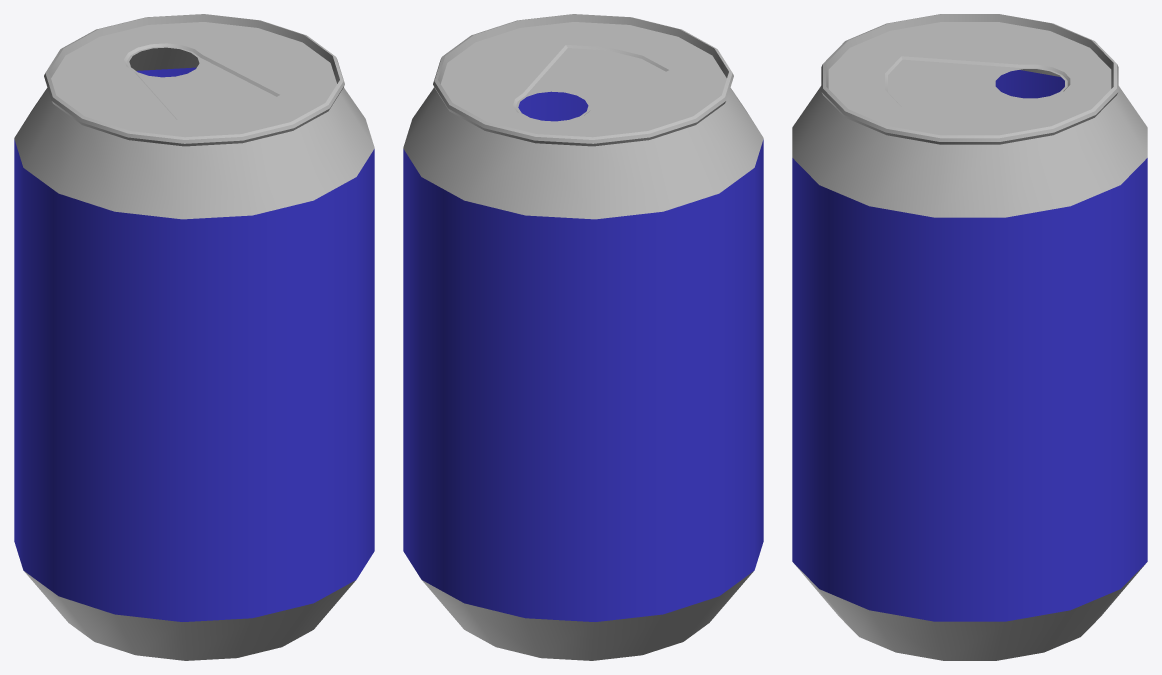
File: Props_Soda2.fbx
3 renders of one model, left to right at view 1: azimuth 30°, elevation 25°; view 2: azimuth 150°, elevation 25°; view 3: azimuth 270°, elevation 25°, orthographic.
Parts seen in each view (by area): view 1: Props_Soda2; view 2: Props_Soda2; view 3: Props_Soda2.
Boxes of the visible parts, bbox=[...] form: Props_Soda2: bbox=[14, 14, 374, 660]; Props_Soda2: bbox=[403, 14, 763, 660]; Props_Soda2: bbox=[792, 14, 1147, 660].
Size of the model in its own units: 19.52 by 32.15 by 19.52.
